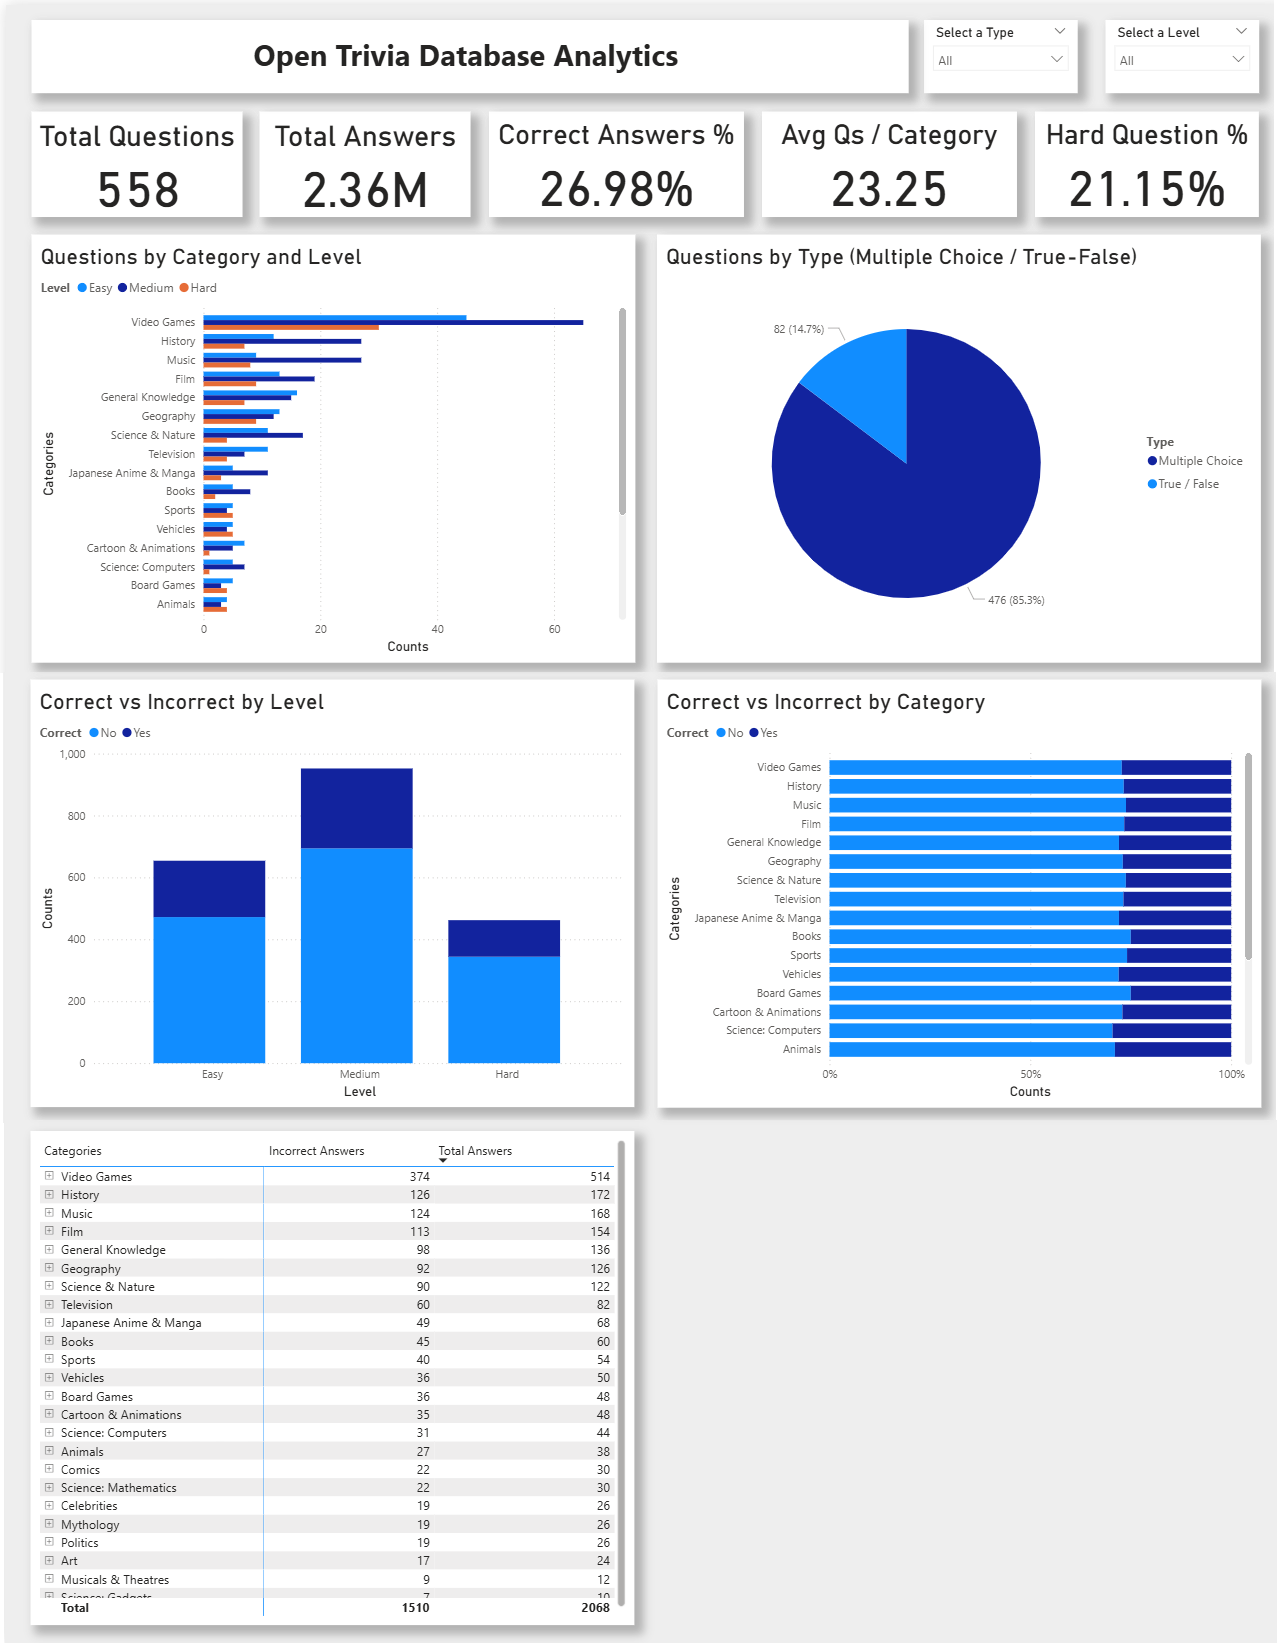

The dashboard page shown, as its layout file describes it:
{"tool":"powerbi","page":{"name":"Page 1","canvas":[1400,1800],"ordinal":0},"visuals":[{"type":"card","title":"Total Questions","fields":{"Values":["Count(questions.ID_question)"]},"box":[27.7,115.8,230.8,115.4],"z":0},{"type":"card","title":"Total Answers","fields":{"Values":["Sum(answers.ID_answer)"]},"box":[276.9,115.8,230.8,115.4],"z":1000},{"type":"card","title":"Correct Answers %","fields":{"Values":["answers.Correct Answers %"]},"box":[527.7,115.8,278.5,115.4],"z":2000},{"type":"card","title":"Avg Qs / Category","fields":{"Values":["questions.Average Questions per Category"]},"box":[826.2,115.8,278.5,115.4],"z":3000},{"type":"card","title":"Hard Question %","fields":{"Values":["questions.Hard Qs %"]},"box":[1124.6,115.8,244.6,115.4],"z":4000},{"type":"clusteredBarChart","title":"Questions by Category and Level","fields":{"Category":["categories.Category_name"],"Y":["CountNonNull(questions.ID_question)"],"Series":["levels.Level_name"]},"box":[27.7,251.2,660,467.7],"z":5000},{"type":"pieChart","title":"Questions by Type (Multiple Choice / True-False)","fields":{"Y":["CountNonNull(questions.ID_question)"],"Category":["types.Type_name"]},"box":[710.8,251.2,660,467.7],"z":6000},{"type":"slicer","fields":{"Values":["types.Type_name"]},"box":[1003.1,16.9,167.7,80],"z":7000},{"type":"slicer","fields":{"Values":["levels.Level_name"]},"box":[1201.5,16.9,167.7,80],"z":8000},{"type":"columnChart","title":"Correct vs Incorrect by Level","fields":{"Category":["levels.Level_name"],"Y":["CountNonNull(answers.ID_answer)"],"Series":["answers.Correct"]},"box":[27.7,742,660,467],"z":9000},{"type":"hundredPercentStackedBarChart","title":"Correct vs Incorrect by Category","fields":{"Category":["categories.Category_name"],"Y":["CountNonNull(answers.ID_answer)"],"Series":["answers.Correct"]},"box":[712.3,742,660,467.7],"z":10000},{"type":"pivotTable","fields":{"Rows":["categories.Category_name","levels.Level_name","questions.Question_text"],"Values":["answers.Incorrect Answers","answers.Total Answers"]},"box":[27.7,1238.9,660,540],"z":11000},{"type":"textbox","box":[27.7,16.9,958.5,80],"z":12000}]}

Visuals, with their boxes in screenshot pixels (x1, y1, x2, y2), scaled from the page's 1400x1800 canvas onto the 1277x1644 screenshot:
"Total Questions" card: (left=25, top=106, right=236, bottom=211)
"Total Answers" card: (left=253, top=106, right=463, bottom=211)
"Correct Answers %" card: (left=481, top=106, right=735, bottom=211)
"Avg Qs / Category" card: (left=754, top=106, right=1008, bottom=211)
"Hard Question %" card: (left=1026, top=106, right=1249, bottom=211)
"Questions by Category and Level" clusteredBarChart: (left=25, top=229, right=627, bottom=657)
"Questions by Type (Multiple Choice / True-False)" pieChart: (left=648, top=229, right=1250, bottom=657)
slicer - types.Type_name: (left=915, top=15, right=1068, bottom=89)
slicer - levels.Level_name: (left=1096, top=15, right=1249, bottom=89)
"Correct vs Incorrect by Level" columnChart: (left=25, top=678, right=627, bottom=1104)
"Correct vs Incorrect by Category" hundredPercentStackedBarChart: (left=650, top=678, right=1252, bottom=1105)
pivotTable - categories.Category_name x levels.Level_name: (left=25, top=1132, right=627, bottom=1625)
textbox: (left=25, top=15, right=900, bottom=89)
